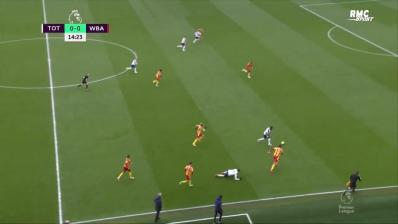football: (280, 140, 286, 146)
player: (116, 154, 135, 184), (177, 161, 196, 189), (266, 145, 285, 173), (213, 168, 243, 182), (257, 125, 275, 147), (192, 122, 207, 148), (151, 68, 166, 88), (241, 60, 255, 81), (124, 57, 139, 74), (175, 35, 188, 53), (192, 30, 202, 44)
referee: (76, 71, 92, 92)
